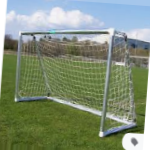goals: (14, 26, 141, 138)
